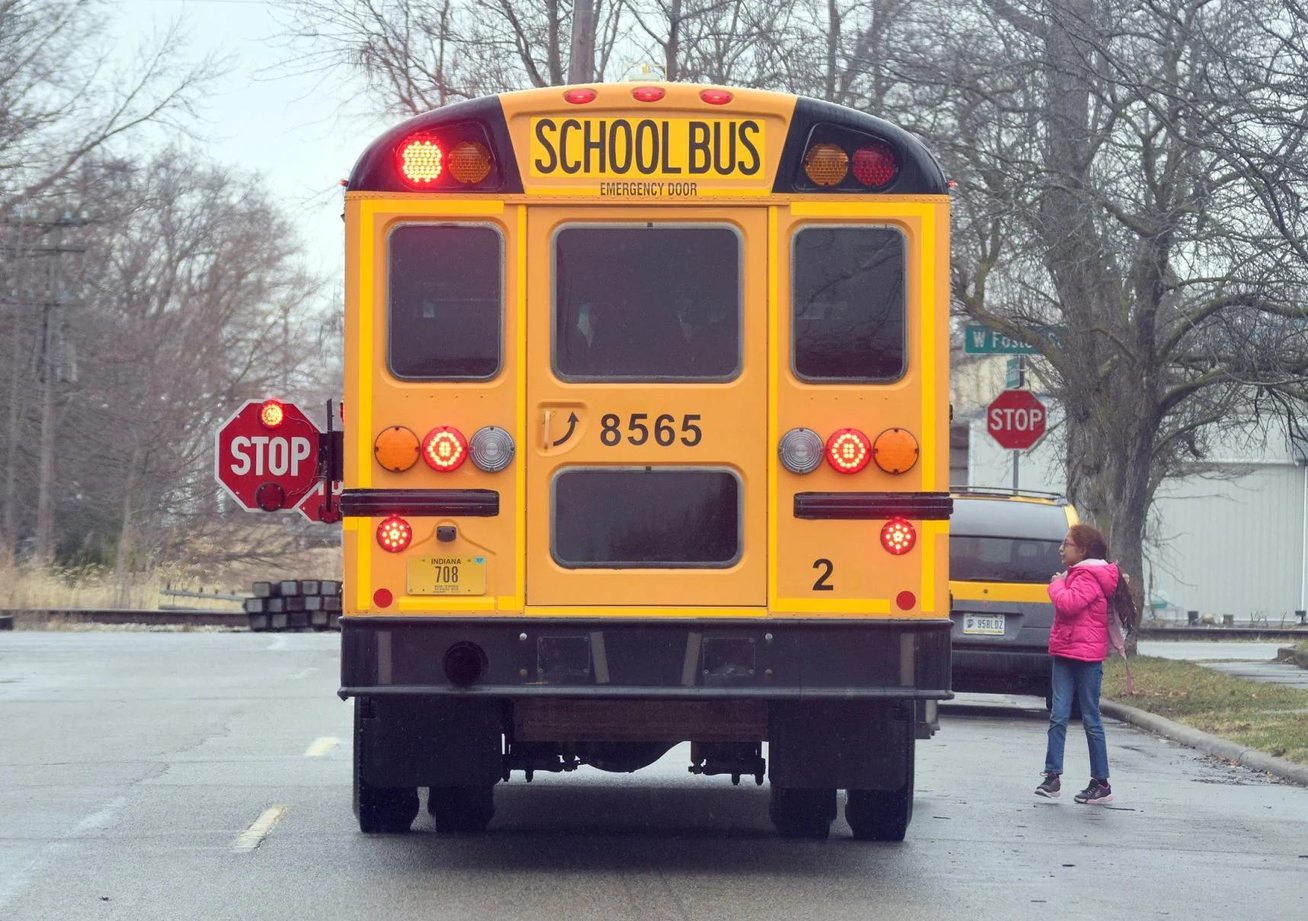Bus: (319, 82, 955, 844)
